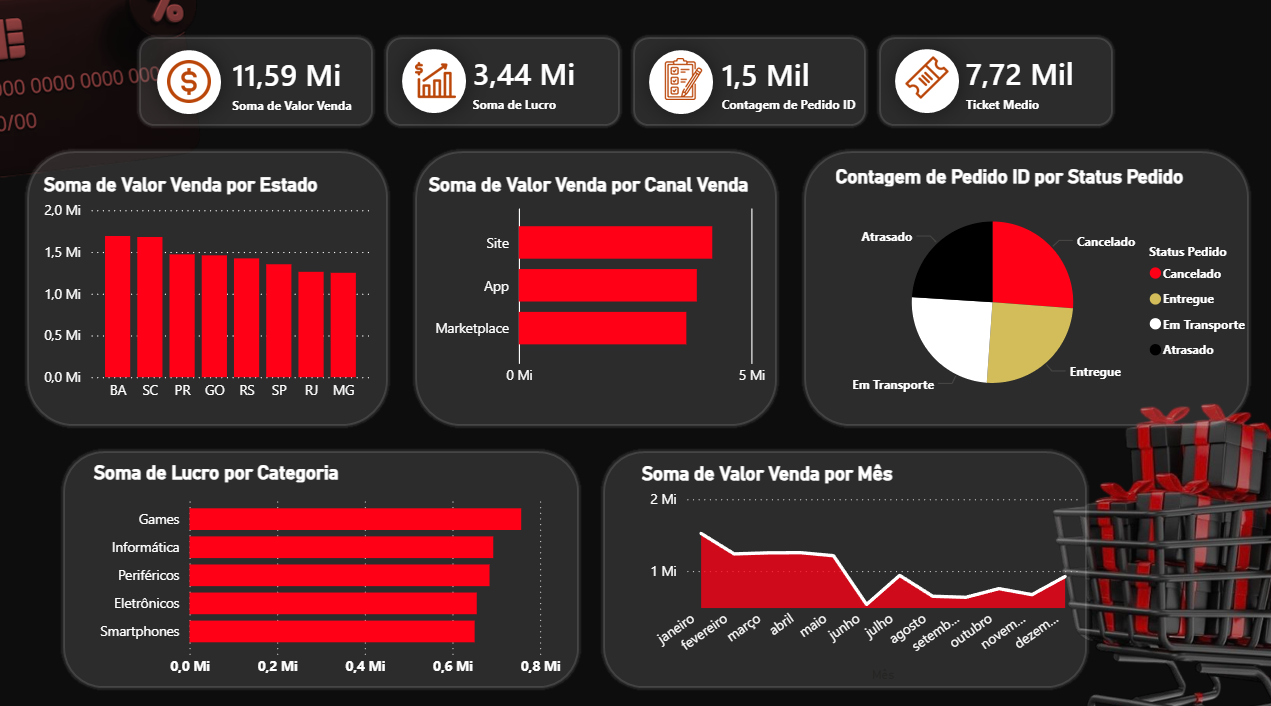

This screenshot's page, from the dashboard's own definition file:
{"tool":"powerbi","page":{"name":"Página 1","canvas":[1280,720],"ordinal":0},"visuals":[{"type":"cardVisual","fields":{"Data":["Sum(Ecommerce.Valor_Venda)"]},"box":[278.4,73.6,201.3,90.4],"z":0},{"type":"cardVisual","fields":{"Data":["Sum(Ecommerce.Lucro)"]},"box":[479.7,58.5,185.3,119.7],"z":1000},{"type":"cardVisual","fields":{"Data":["CountNonNull(Ecommerce.Pedido_ID)"]},"box":[700.5,45.2,249.2,146.3],"z":2000},{"type":"cardVisual","fields":{"Data":["Ecommerce.Ticket Medio"]},"box":[916.8,23.9,336.9,188.9],"z":3000},{"type":"lineClusteredColumnComboChart","title":"Soma de Valor Venda por Estado","fields":{"Category":["Ecommerce.Estado"],"Y":["Sum(Ecommerce.Valor_Venda)"]},"box":[123.3,198.6,298.8,211],"z":4000},{"type":"barChart","fields":{"Category":["Ecommerce.Categoria"],"Y":["Sum(Ecommerce.Lucro)"]},"box":[167.6,454,423.8,200.4],"z":5000},{"type":"pieChart","fields":{"Category":["Ecommerce.Status_Pedido"],"Y":["CountNonNull(Ecommerce.Pedido_ID)"]},"box":[825.5,191.5,382.2,224.3],"z":6000},{"type":"barChart","fields":{"Category":["Ecommerce.Canal_Venda"],"Y":["Sum(Ecommerce.Valor_Venda)"]},"box":[464.6,198.6,349.4,197.7],"z":7000},{"type":"areaChart","title":"Soma de Valor Venda por Mês","fields":{"Category":["Ecommerce.Data_Pedido.Variation.Hierarquia de datas.Mês"],"Y":["Sum(Ecommerce.Valor_Venda)"]},"box":[653.5,454.9,397.2,199.5],"z":8001}]}

Visuals, with their boxes in screenshot pixels (x1, y1, x2, y2), scaled from the page's 1280x720 canvas onto the 1271x706 screenshot:
cardVisual - Sum(Ecommerce.Valor_Venda): bbox=[276, 72, 476, 161]
cardVisual - Sum(Ecommerce.Lucro): bbox=[476, 57, 660, 175]
cardVisual - CountNonNull(Ecommerce.Pedido_ID): bbox=[696, 44, 943, 188]
cardVisual - Ecommerce.Ticket Medio: bbox=[910, 23, 1245, 209]
"Soma de Valor Venda por Estado" lineClusteredColumnComboChart: bbox=[122, 195, 419, 402]
barChart - Ecommerce.Categoria x Sum(Ecommerce.Lucro): bbox=[166, 445, 587, 642]
pieChart - Ecommerce.Status_Pedido x CountNonNull(Ecommerce.Pedido_ID): bbox=[820, 188, 1199, 408]
barChart - Ecommerce.Canal_Venda x Sum(Ecommerce.Valor_Venda): bbox=[461, 195, 808, 389]
"Soma de Valor Venda por Mês" areaChart: bbox=[649, 446, 1043, 642]
